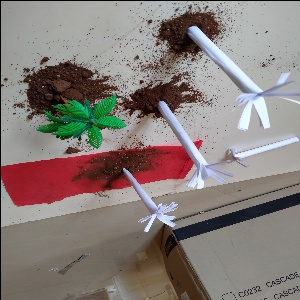plant: (31, 78, 121, 149)
weed: (174, 31, 295, 130), (116, 171, 196, 257), (159, 108, 225, 188), (221, 135, 300, 165)
